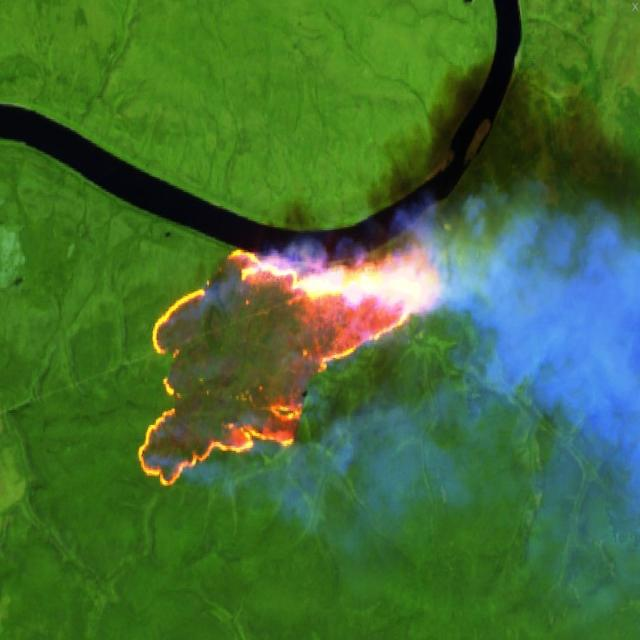fire: (130, 245, 459, 495)
